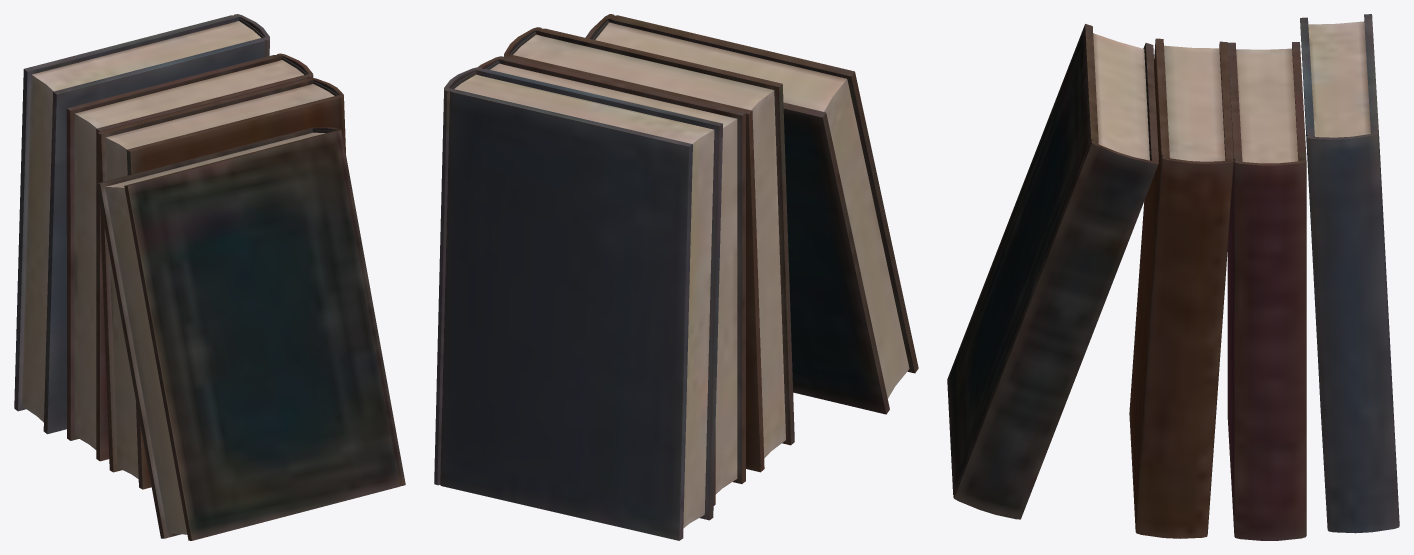
File: book-pile-e.glb
3 renders of one model, left to right at view 1: azimuth 30°, elevation 25°; view 2: azimuth 150°, elevation 25°; view 3: azimuth 270°, elevation 25°, orthographic. The views are drawn at different scales.
Parts seen in each view (by area): view 1: book-pile-e; view 2: book-pile-e; view 3: book-pile-e.
Part boxes in pixels (x1=…): book-pile-e: x1=14, y1=14, x2=405, y2=540; book-pile-e: x1=434, y1=14, x2=918, y2=540; book-pile-e: x1=947, y1=14, x2=1399, y2=540.
Bounding box in the file's own units: 0.1922 × 0.2489 × 0.2567.
1 material, 1 textured.
